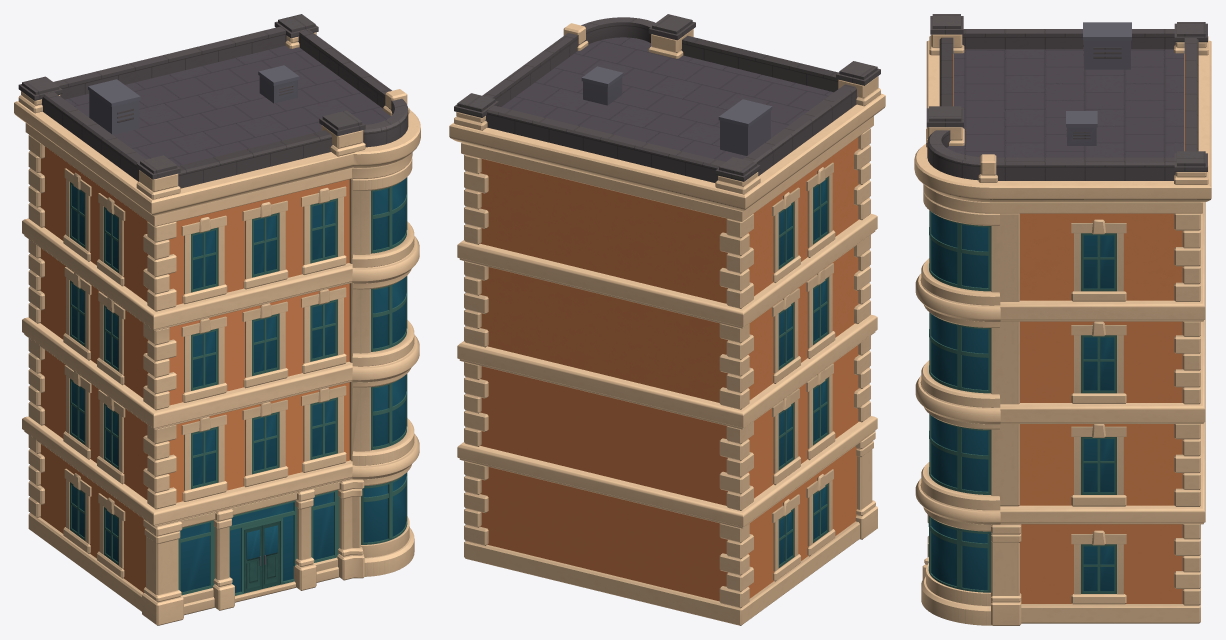
File: houdini_orange_corner.glb
3 views of the same model, side by side, from view 1: azimuth 30°, elevation 25°; view 2: azimuth 150°, elevation 25°; view 3: azimuth 270°, elevation 25° (orthographic). The views are drawn at different scales.
Parts seen in each view (by area): view 1: LOD0; view 2: LOD0; view 3: LOD0.
Boxes of the visible parts, left/top/right/bottom form: LOD0: left=14, top=14, right=420, bottom=625; LOD0: left=449, top=14, right=885, bottom=625; LOD0: left=914, top=14, right=1211, bottom=625.
Size of what is drawn, in the model's own units: 9.98 by 15.18 by 8.55.
5 materials, 5 textured.
